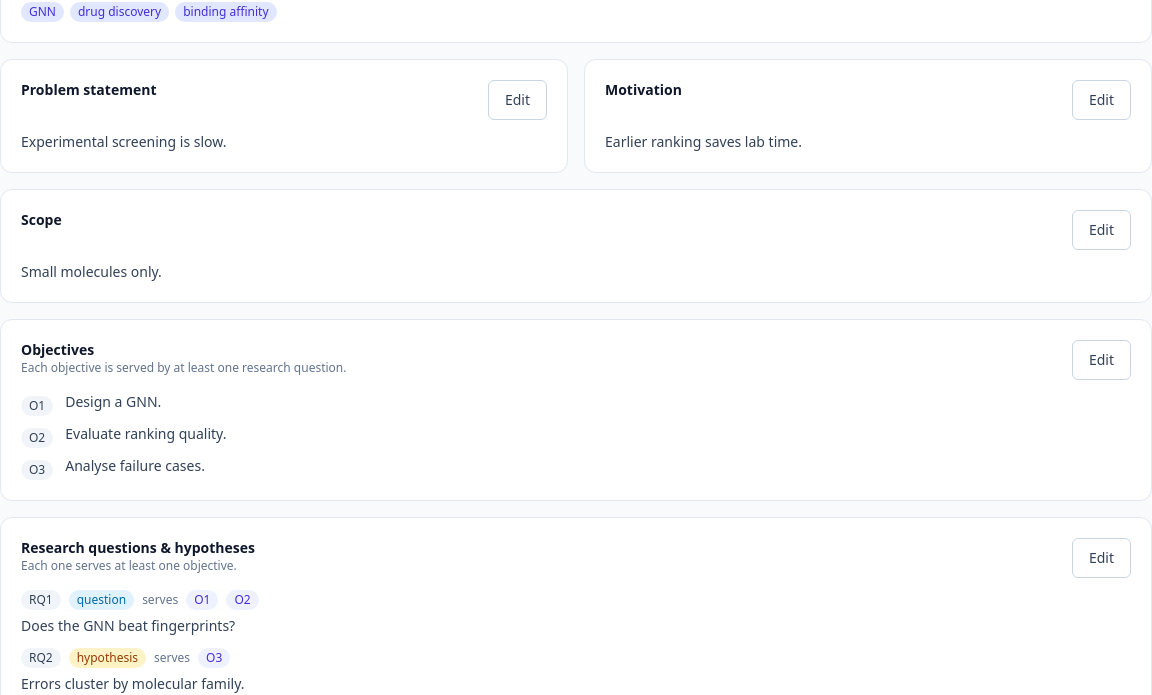
Test: PlanCards › won't save an objective a question still depends on
(page scrolled)
Click the button with aria-label "Edit Objectives".
click(1101, 360)  # box [1072,340,1131,380]
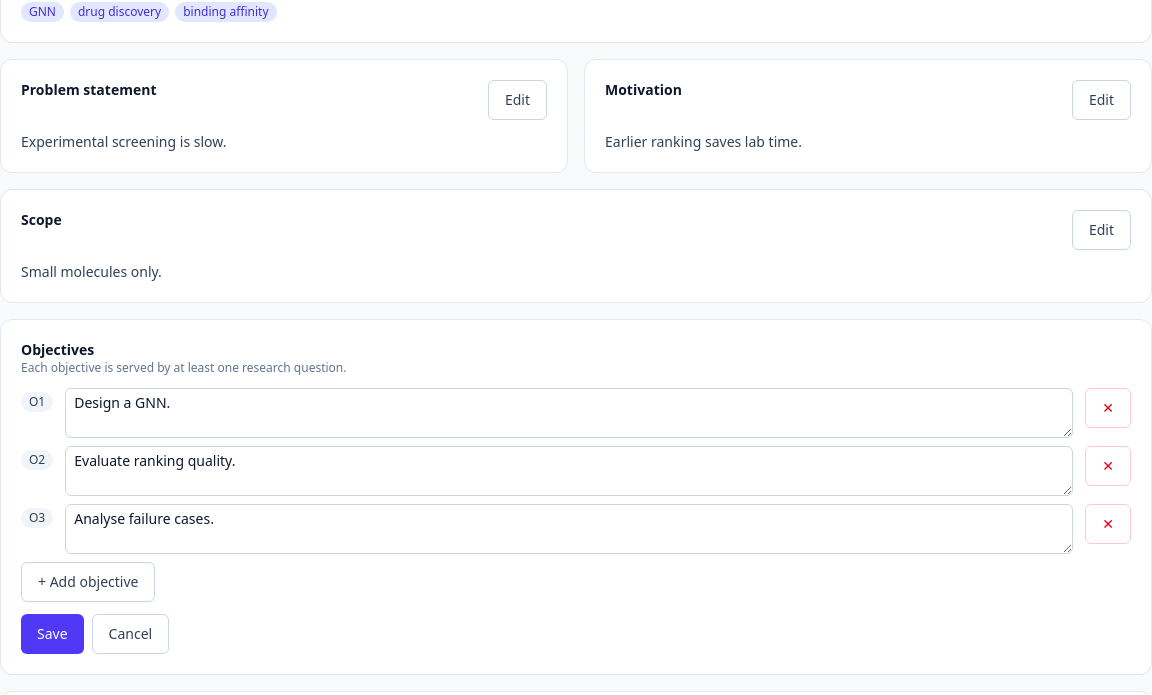
Click the button named "Remove O3".
click(1108, 524)  # box [1085,504,1131,544]
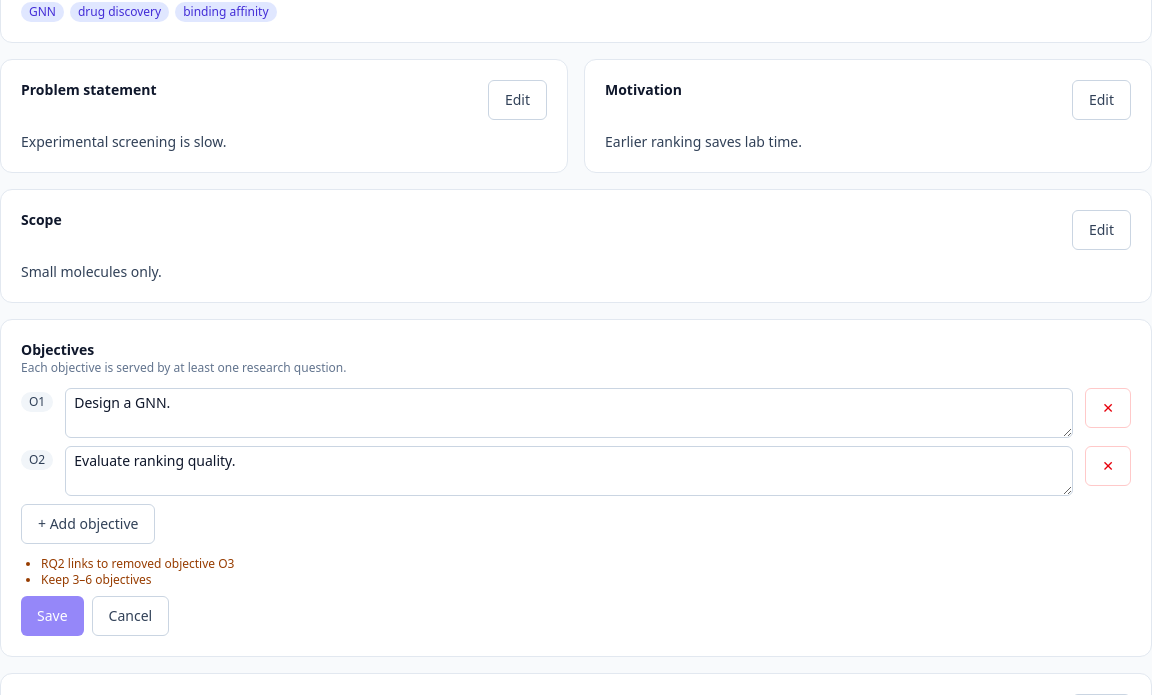
Result: the list named "Problems to fix" shows "RQ2 links to removed objective O3" at [41,555,234,572]
Result: the button "Save" is disabled at [21,596,84,636]
